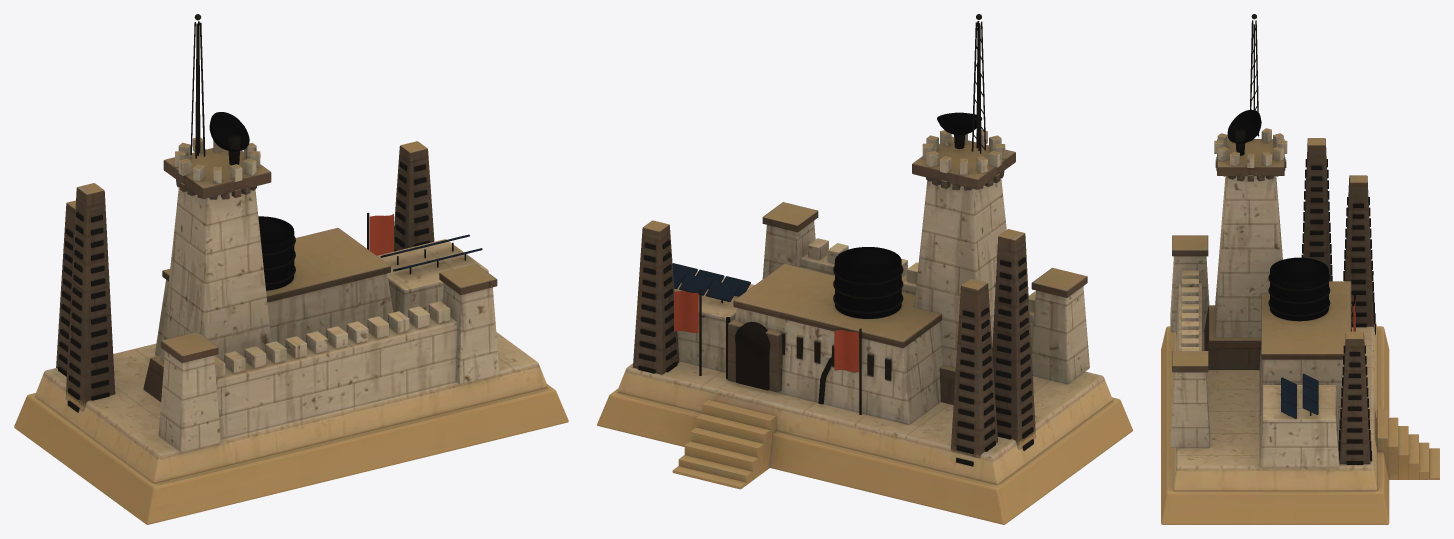
Rendered from outpost.glb.
3 views of the same model, side by side, from view 1: azimuth 30°, elevation 25°; view 2: azimuth 150°, elevation 25°; view 3: azimuth 270°, elevation 25° (orthographic). The views are drawn at different scales.
Parts seen in each view (by area): view 1: Outpost_Body; view 2: Outpost_Body; view 3: Outpost_Body.
Part boxes in pixels (x1,y1,x2,y2): Outpost_Body: [14, 14, 568, 524]; Outpost_Body: [597, 14, 1132, 524]; Outpost_Body: [1161, 14, 1439, 524].
Size of the model in its own units: 11.97 by 12.08 by 8.04.
1 material, 1 textured.
